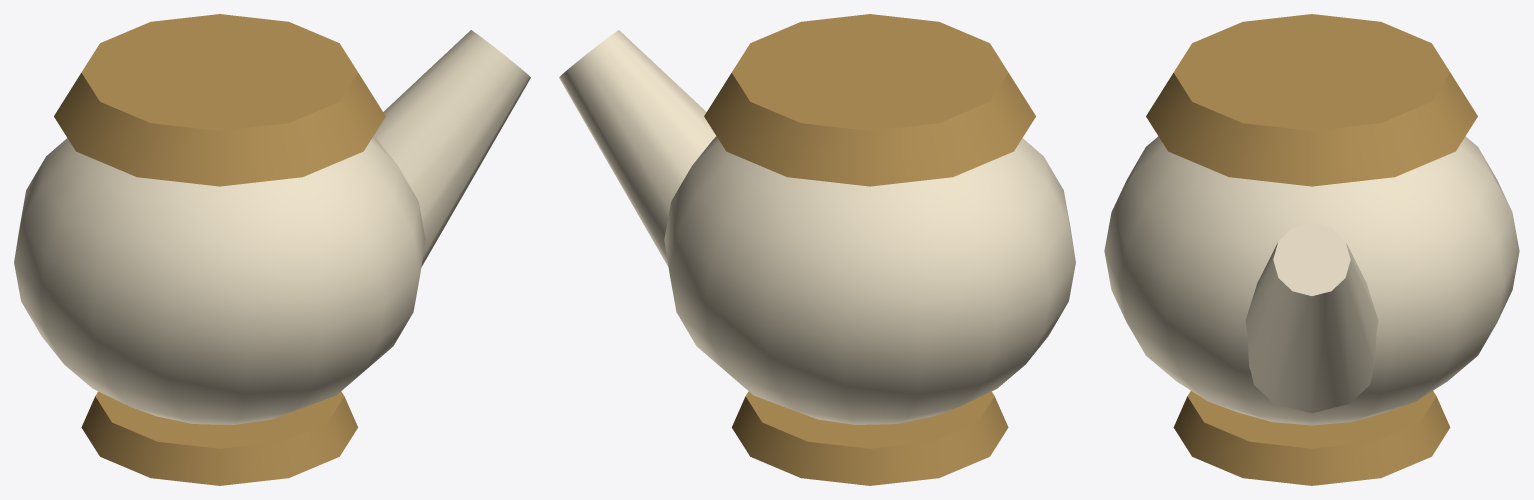
The model's file is teapot.glb.
The picture shows the model from 3 angles, left to right: view 1: azimuth 30°, elevation 25°; view 2: azimuth 150°, elevation 25°; view 3: azimuth 270°, elevation 25°; orthographic projection.
Parts seen in each view (by area): view 1: TeapotBody, Lid, Spout, Foot; view 2: TeapotBody, Lid, Spout, Foot; view 3: TeapotBody, Lid, Spout, Foot.
Part boxes in pixels (x1=…): TeapotBody: x1=14, y1=136, x2=425, y2=424; Lid: x1=54, y1=14, x2=385, y2=186; Spout: x1=373, y1=30, x2=530, y2=267; Foot: x1=81, y1=391, x2=357, y2=485; TeapotBody: x1=664, y1=136, x2=1075, y2=424; Lid: x1=704, y1=14, x2=1035, y2=186; Spout: x1=559, y1=30, x2=716, y2=267; Foot: x1=732, y1=391, x2=1008, y2=485; TeapotBody: x1=1104, y1=136, x2=1519, y2=425; Lid: x1=1146, y1=14, x2=1477, y2=186; Spout: x1=1245, y1=223, x2=1378, y2=413; Foot: x1=1173, y1=391, x2=1450, y2=485.
Size of the model in its own units: 0.4041 by 0.283 by 0.3.
